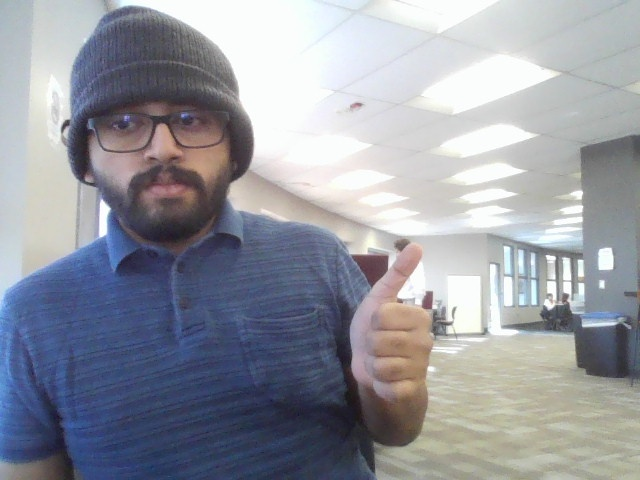start: (343, 235, 444, 435)
